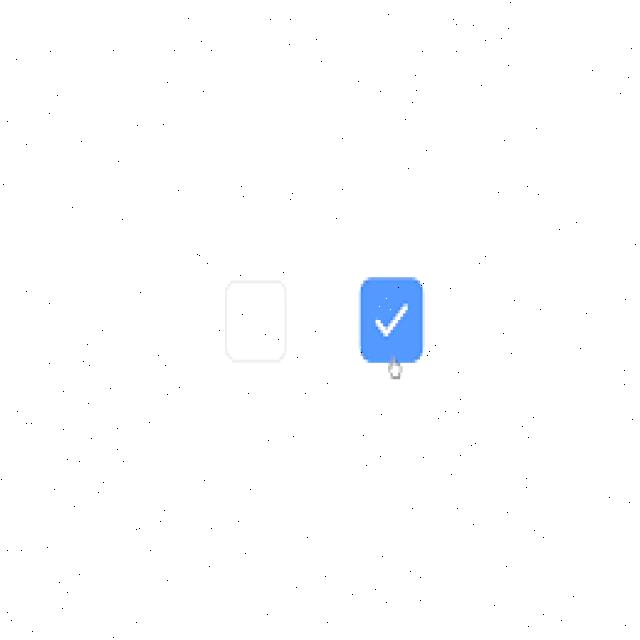checkbox: (360, 278, 424, 363), (228, 278, 289, 361)
